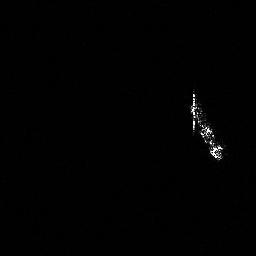ship: (185, 85, 230, 164)
